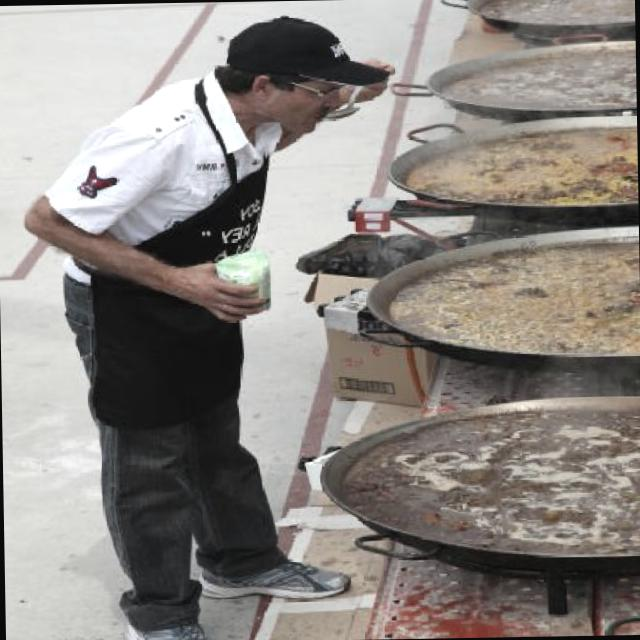Person: (20, 11, 405, 640)
